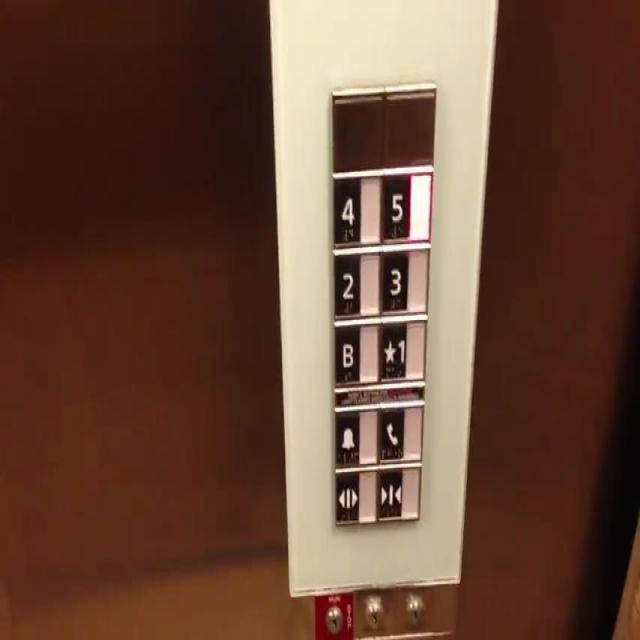2: (326, 244, 382, 323)
3: (377, 242, 432, 318)
4: (328, 164, 384, 252)
5: (376, 160, 434, 248)
B: (328, 320, 382, 389)
alarm: (331, 400, 378, 469)
call: (374, 396, 426, 468)
close: (374, 457, 421, 527)
keyhole: (314, 591, 354, 636), (361, 592, 386, 636), (402, 588, 426, 633)
open: (328, 460, 380, 531)
s1: (375, 315, 428, 385)
